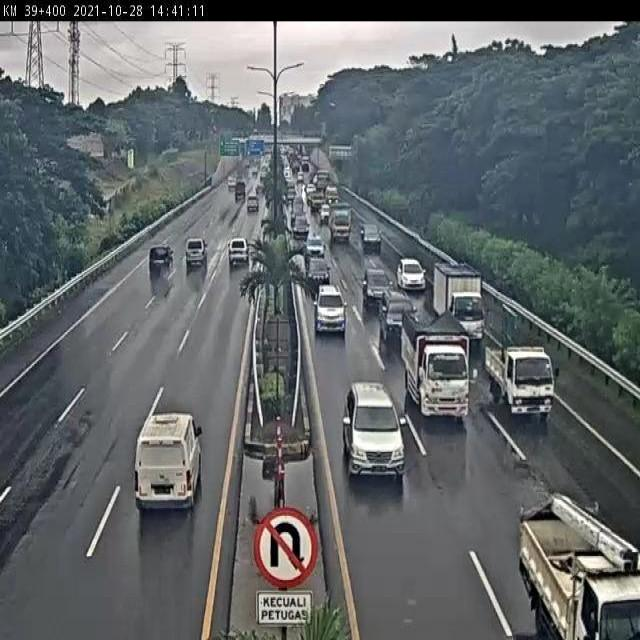car: (133, 412, 203, 516), (343, 379, 406, 481), (379, 289, 415, 340), (314, 284, 346, 333), (362, 268, 392, 305), (396, 257, 427, 292), (306, 254, 331, 286)
mid truck: (147, 243, 175, 277), (227, 235, 251, 268), (184, 237, 208, 267)
truck-m-: (401, 310, 471, 422)
truck-s-: (484, 342, 554, 422), (433, 261, 486, 344)
